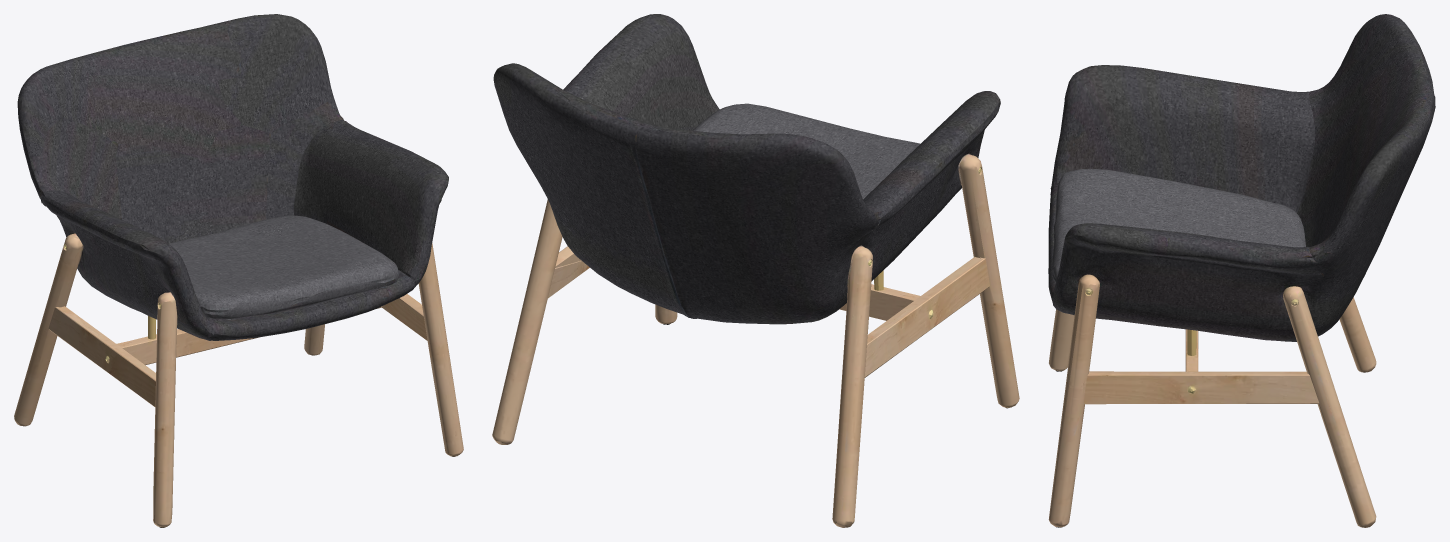
The picture shows the model from 3 angles, left to right: view 1: azimuth 30°, elevation 25°; view 2: azimuth 150°, elevation 25°; view 3: azimuth 270°, elevation 25°; orthographic projection. The views are drawn at different scales.
Parts seen in each view (by area): view 1: ProcessedMeshNode; view 2: ProcessedMeshNode; view 3: ProcessedMeshNode.
Part boxes in pixels (left/top/right/bottom): ProcessedMeshNode: left=14, top=14, right=463, bottom=527; ProcessedMeshNode: left=492, top=14, right=1019, bottom=527; ProcessedMeshNode: left=1048, top=14, right=1435, bottom=527.
Size of the model in its own units: 0.7248 by 0.739 by 0.7001.
1 material, 1 textured.
